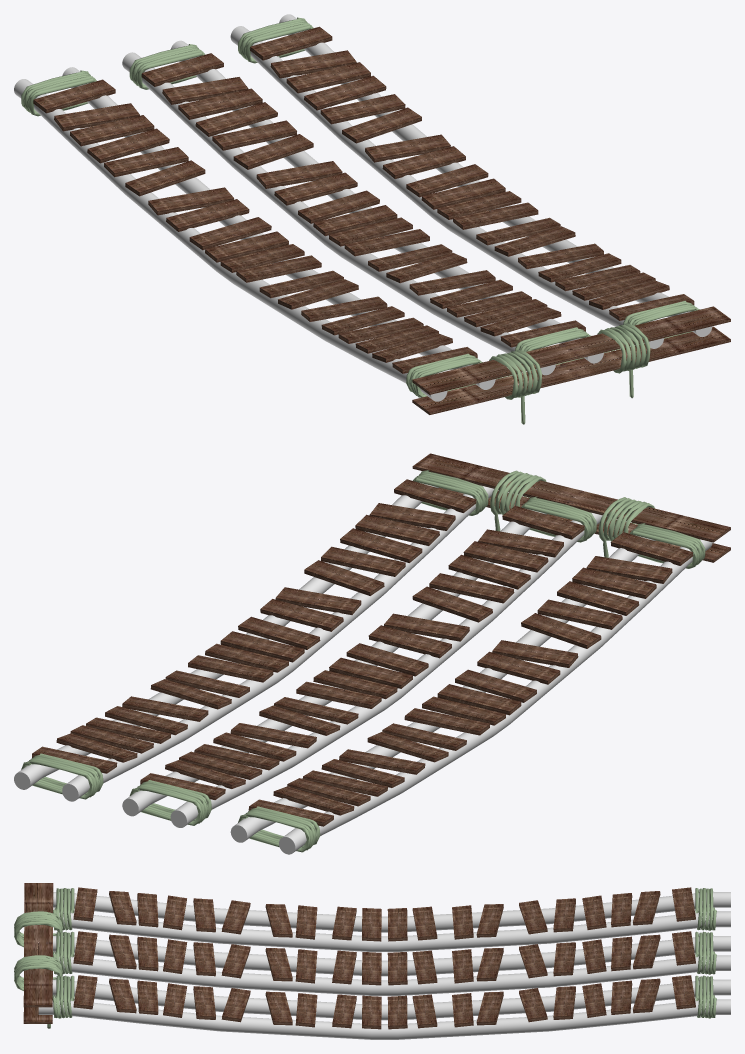
The model's file is 3_bridge_straight_nobase.fbx.
The picture shows the model from 3 angles, top to bottom: view 1: azimuth 30°, elevation 25°; view 2: azimuth 150°, elevation 25°; view 3: azimuth 270°, elevation 25°; orthographic projection. The views are drawn at different scales.
Visible parts, largest first — view 1: 3_straight_LaL, 3_straight_LaR, 3_straight_LaM, 3_straight_verschlag, 3_straight_ropevertical, 3_straight_LaL_ropes, 3_straight_LaR_ropes, 3_straight_LaM_ropes; view 2: 3_straight_LaM, 3_straight_LaR, 3_straight_LaL, 3_straight_verschlag, 3_straight_ropevertical, 3_straight_LaR_ropes, 3_straight_LaM_ropes, 3_straight_LaL_ropes; view 3: 3_straight_LaR, 3_straight_LaL, 3_straight_LaM, 3_straight_verschlag, 3_straight_ropevertical, 3_straight_LaR_ropes, 3_straight_LaL_ropes, 3_straight_LaM_ropes.
Part boxes in pixels (x1,y1,x2,y2): 3_straight_LaL: (14,67,495,401); 3_straight_LaR: (230,14,712,348); 3_straight_LaM: (122,40,603,375); 3_straight_verschlag: (412,306,730,414); 3_straight_ropevertical: (489,323,650,424); 3_straight_LaL_ropes: (21,70,482,397); 3_straight_LaR_ropes: (238,17,700,344); 3_straight_LaM_ropes: (129,44,591,370); 3_straight_LaM: (122,505,602,827); 3_straight_LaR: (14,479,493,801); 3_straight_LaL: (230,532,712,854); 3_straight_verschlag: (412,453,730,562); 3_straight_ropevertical: (490,470,654,557); 3_straight_LaR_ropes: (21,470,488,799); 3_straight_LaM_ropes: (129,496,596,825); 3_straight_LaL_ropes: (238,523,705,852); 3_straight_LaR: (38,975,730,1039); 3_straight_LaL: (53,887,730,951); 3_straight_LaM: (53,931,730,995); 3_straight_verschlag: (23,883,53,1023); 3_straight_ropevertical: (14,911,62,1028); 3_straight_LaR_ropes: (52,975,716,1018); 3_straight_LaL_ropes: (53,888,716,930); 3_straight_LaM_ropes: (53,931,716,974).
Size of what is drawn, in the model's own units: 50.01 by 12.03 by 124.
Materials: 3 (1 with a texture image).
